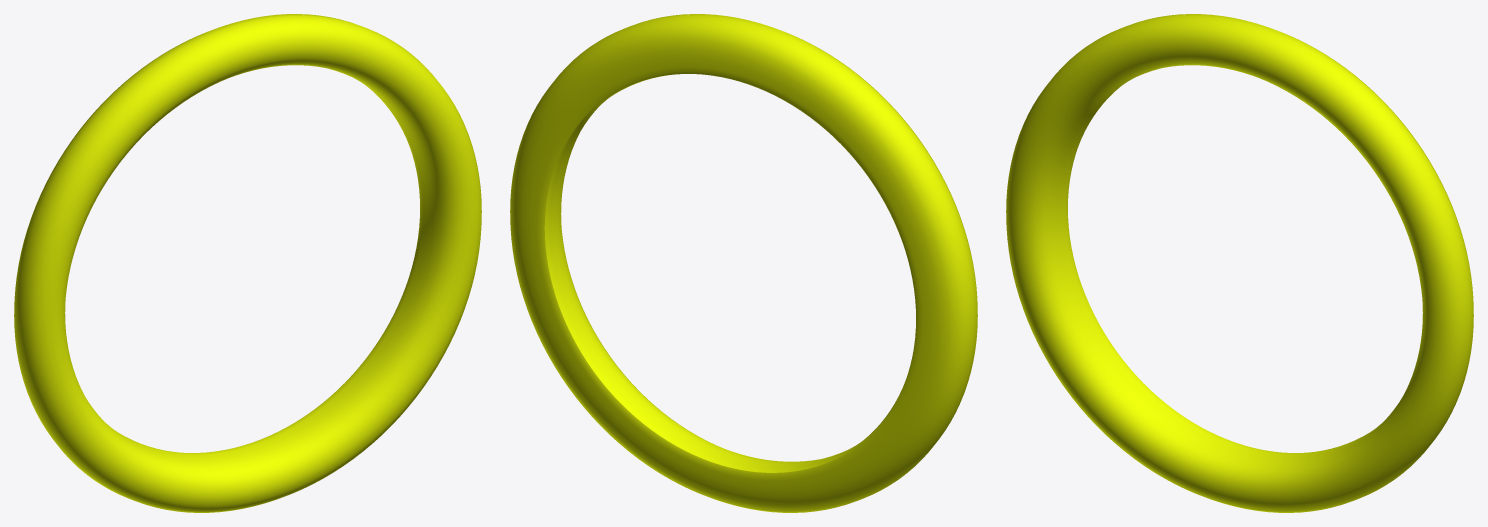
File: ring.glb
3 renders of one model, left to right at view 1: azimuth 30°, elevation 25°; view 2: azimuth 150°, elevation 25°; view 3: azimuth 330°, elevation 25°, orthographic.
Parts seen in each view (by area): view 1: Circle; view 2: Circle; view 3: Circle.
Boxes of the visible parts, <box> form: Circle: <box>14,14,481,512</box>; Circle: <box>510,14,977,512</box>; Circle: <box>1006,14,1473,512</box>.
Size of the model in its own units: 1.97 by 1.97 by 0.2011.
